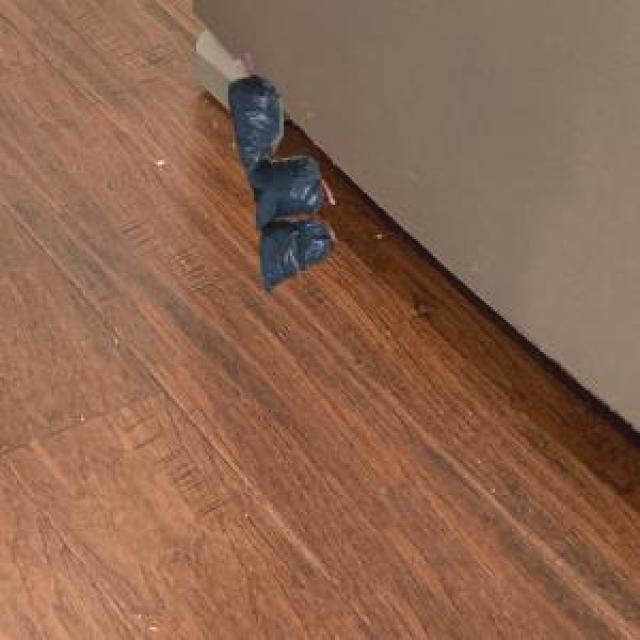Trashbag: (250, 152, 333, 227), (258, 220, 341, 289), (230, 80, 284, 156)
